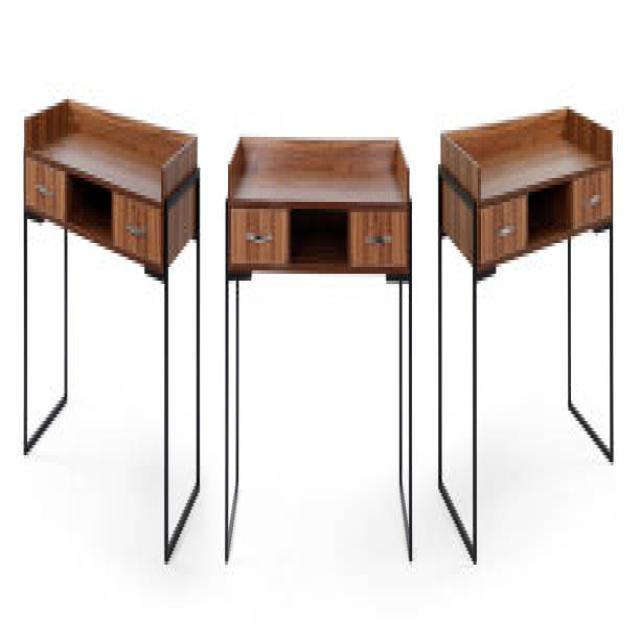table: (22, 96, 200, 562), (224, 134, 414, 562), (437, 103, 614, 562)
